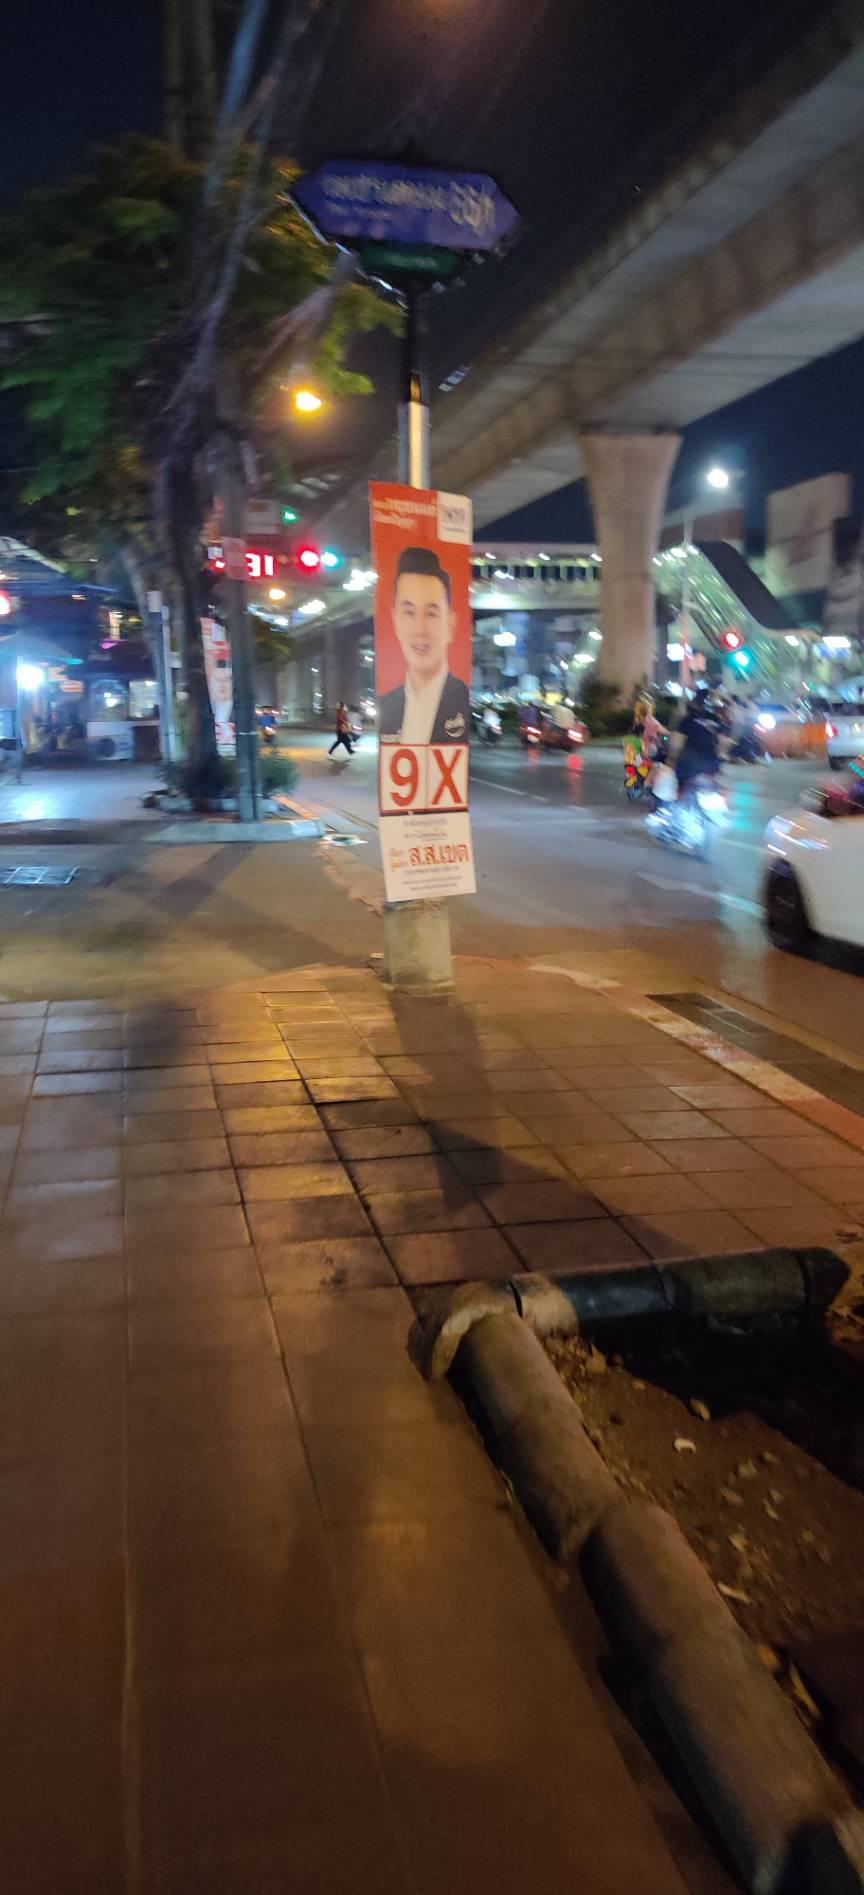Banner: (371, 477, 471, 903)
